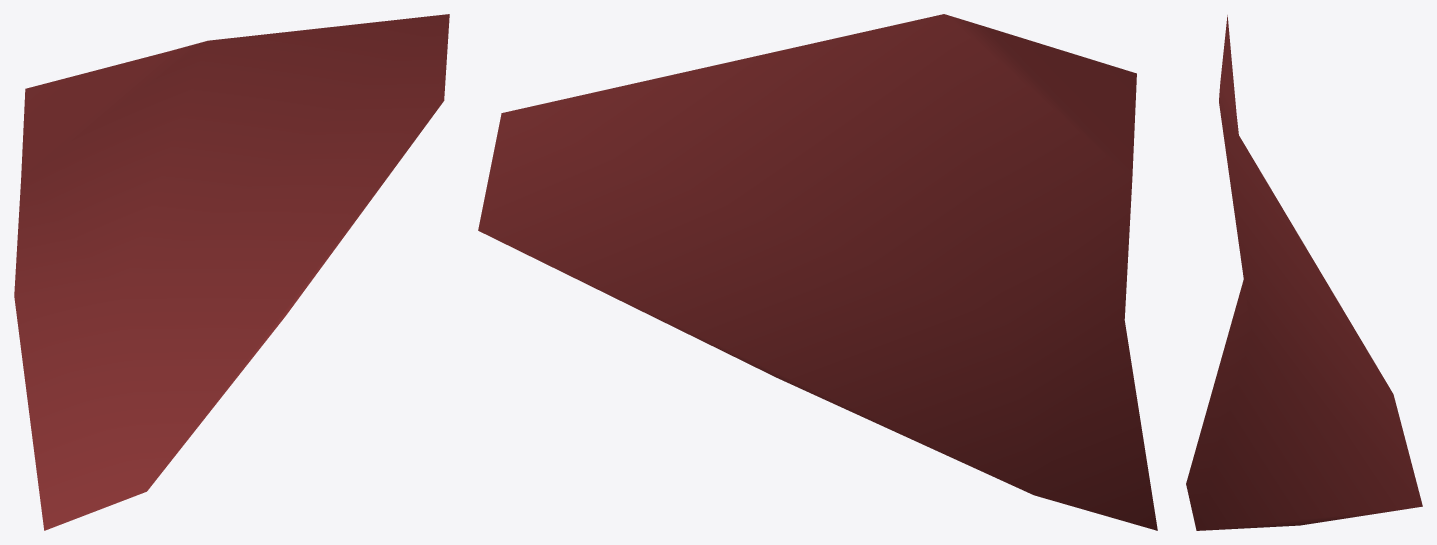
File: orbicularis-oris-muscle-ol.glb
3 renders of one model, left to right at view 1: azimuth 30°, elevation 25°; view 2: azimuth 150°, elevation 25°; view 3: azimuth 270°, elevation 25°, orthographic. The views are drawn at different scales.
Parts seen in each view (by area): view 1: Orbicularis oris muscle.ol; view 2: Orbicularis oris muscle.ol; view 3: Orbicularis oris muscle.ol.
Boxes of the visible parts, x1,y1,x2,y2 form: Orbicularis oris muscle.ol: [14, 14, 449, 530]; Orbicularis oris muscle.ol: [478, 14, 1157, 530]; Orbicularis oris muscle.ol: [1186, 15, 1422, 530].
Bounding box in the file's own units: 0.00613 × 0.00503 × 0.00226.
